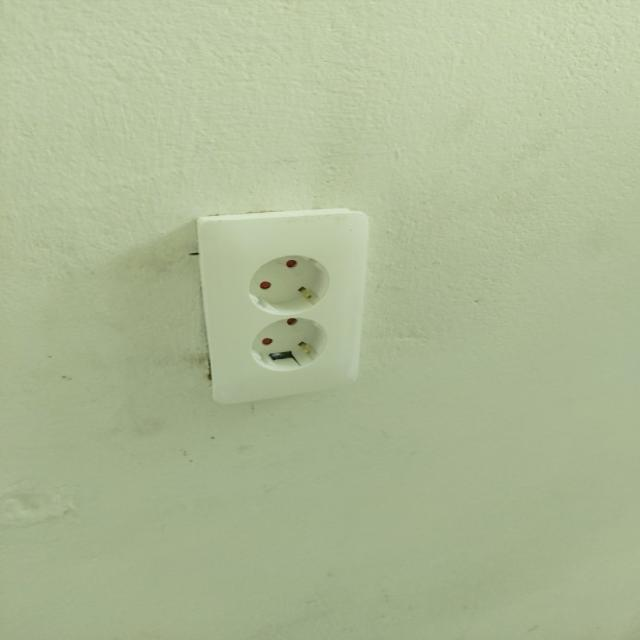typeb: (158, 167, 403, 440)
